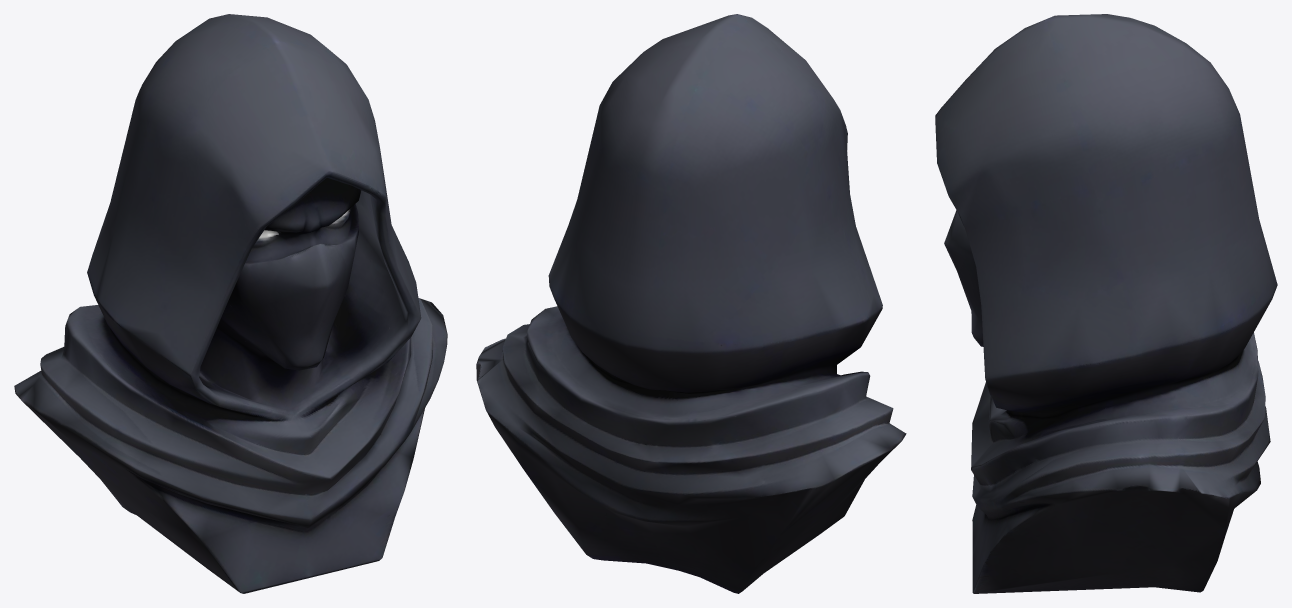
3 views of the same model, side by side, from view 1: azimuth 30°, elevation 25°; view 2: azimuth 150°, elevation 25°; view 3: azimuth 270°, elevation 25° (orthographic). The views are drawn at different scales.
Parts seen in each view (by area): view 1: tripo_node_601e0300-b7a6-49f5-b5d2-0dd231feeb 1; view 2: tripo_node_601e0300-b7a6-49f5-b5d2-0dd231feeb 1; view 3: tripo_node_601e0300-b7a6-49f5-b5d2-0dd231feeb 1.
Boxes of the visible parts, x1=… form: tripo_node_601e0300-b7a6-49f5-b5d2-0dd231feeb 1: x1=14, y1=14, x2=447, y2=593; tripo_node_601e0300-b7a6-49f5-b5d2-0dd231feeb 1: x1=476, y1=14, x2=906, y2=593; tripo_node_601e0300-b7a6-49f5-b5d2-0dd231feeb 1: x1=935, y1=14, x2=1277, y2=593.
Bounding box in the file's own units: 0.8292 × 0.9998 × 0.5707.
Materials: 1 (1 with a texture image).
